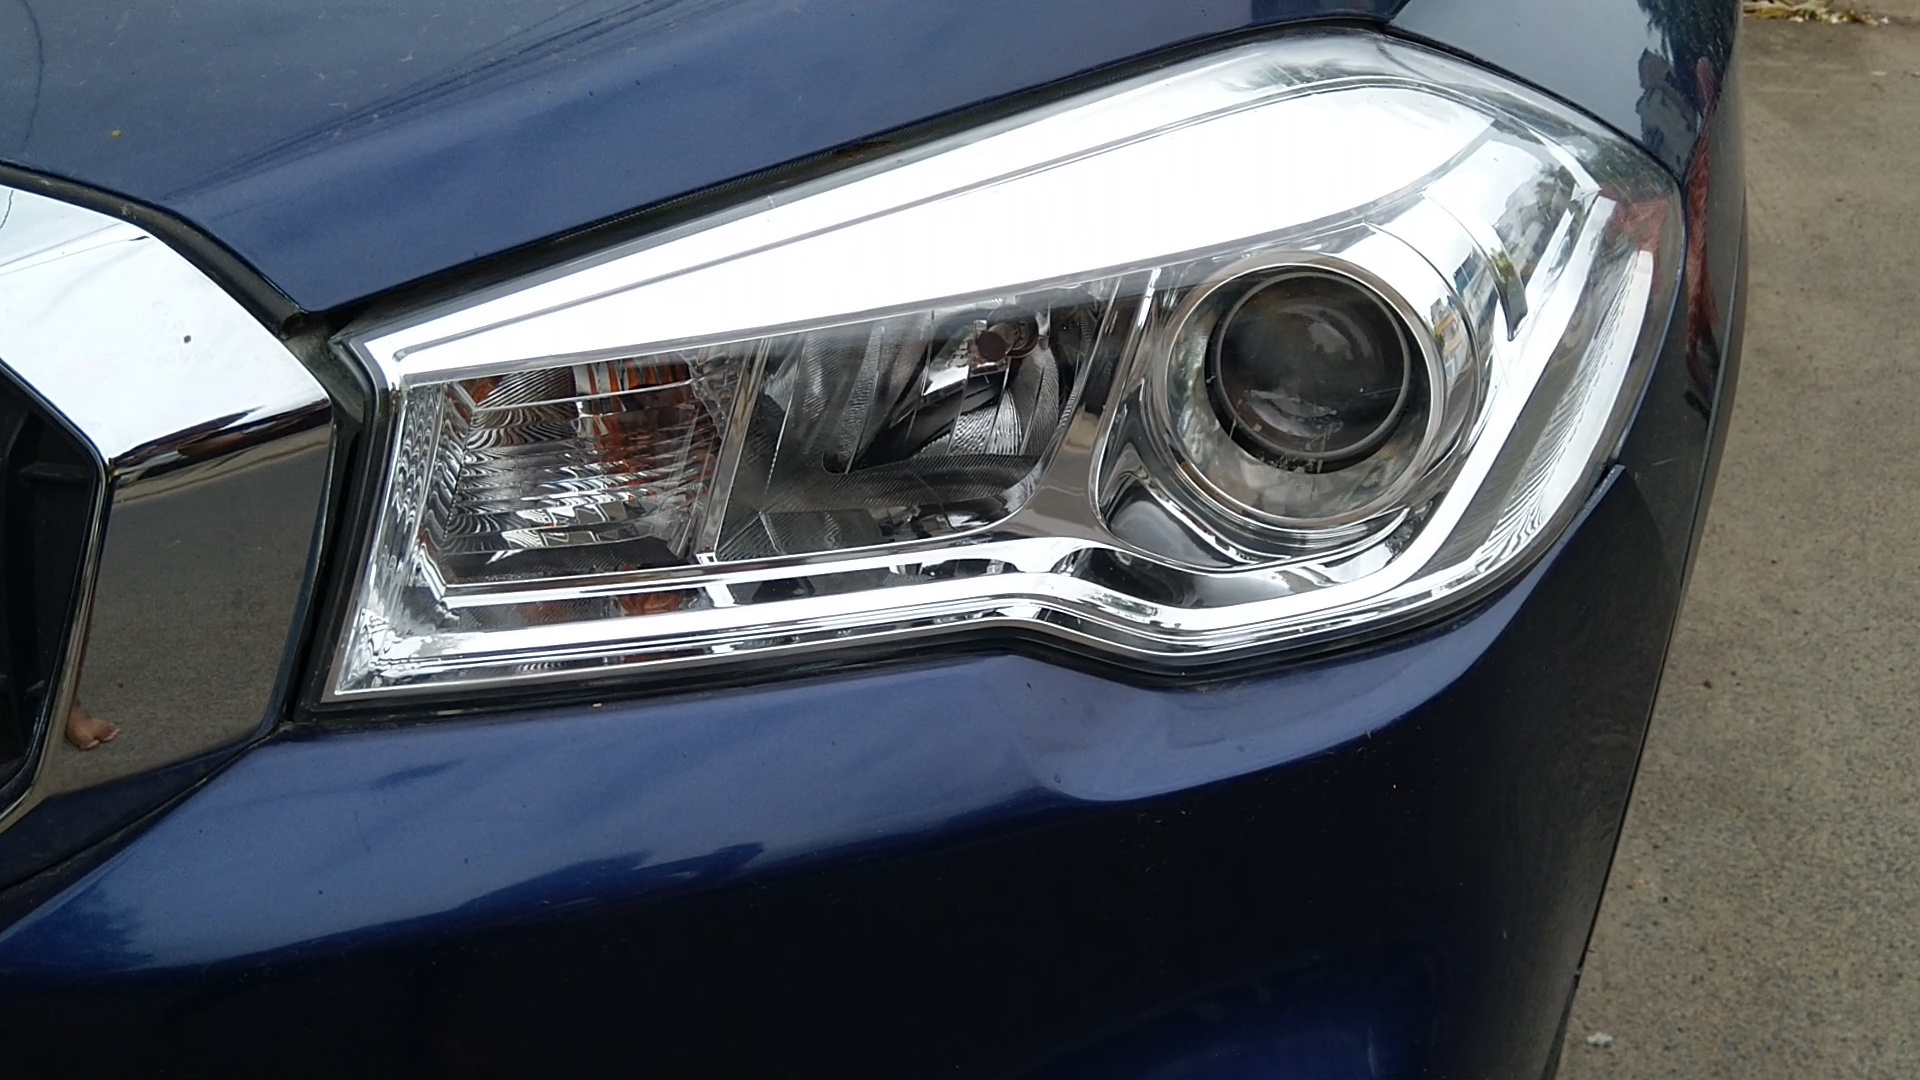headlamp: (284, 15, 1714, 872)
